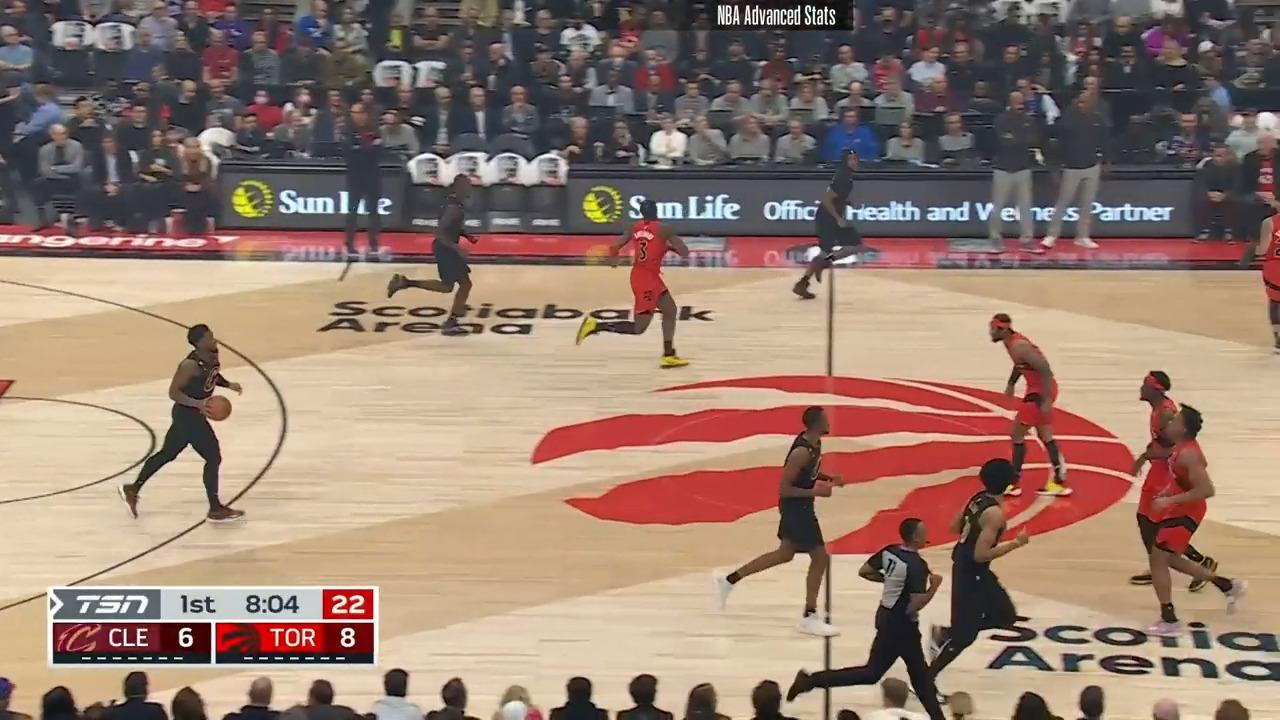player: (712, 405, 845, 640), (1119, 402, 1239, 637), (926, 456, 1041, 683), (125, 319, 249, 526), (579, 197, 690, 368), (1121, 370, 1195, 590), (984, 314, 1071, 500), (404, 172, 484, 332), (794, 154, 863, 302), (1252, 192, 1279, 364)
referee: (853, 516, 953, 720)
